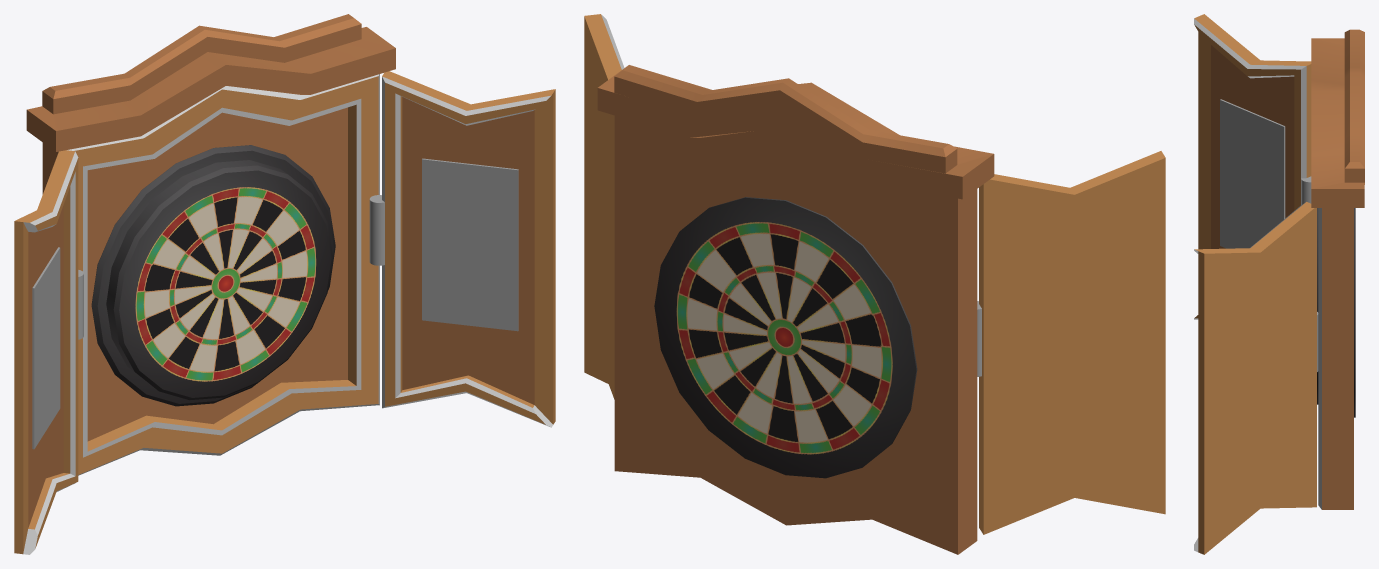
File: DartsVIP.fbx
The picture shows the model from 3 angles, left to right: view 1: azimuth 30°, elevation 25°; view 2: azimuth 150°, elevation 25°; view 3: azimuth 270°, elevation 25°; orthographic projection. The views are drawn at different scales.
Parts seen in each view (by area): view 1: pCube1, pCube2, DartCircle, pCube3, DartCircle1, pCylinder1; view 2: pCube1, pCube2, DartCircle1; view 3: pCube2, pCube1, pCube3, DartCircle1, pCylinder1, DartCircle.
Boxes of the visible parts, <box> form: pCube1: <box>26,14,395,475</box>; pCube2: <box>14,71,555,554</box>; DartCircle: <box>106,160,332,400</box>; pCube3: <box>32,158,518,449</box>; DartCircle1: <box>91,145,335,406</box>; pCylinder1: <box>78,195,384,339</box>; pCube1: <box>597,65,994,554</box>; pCube2: <box>584,14,1165,534</box>; DartCircle1: <box>654,197,917,478</box>; pCube2: <box>1194,14,1316,554</box>; pCube1: <box>1311,29,1364,509</box>; pCube3: <box>1220,99,1285,248</box>; DartCircle1: <box>1354,208,1355,417</box>; pCylinder1: <box>1301,176,1318,371</box>; DartCircle: <box>1317,208,1318,404</box>.
Size of the model in its own units: 37.79 by 27.66 by 11.39.
